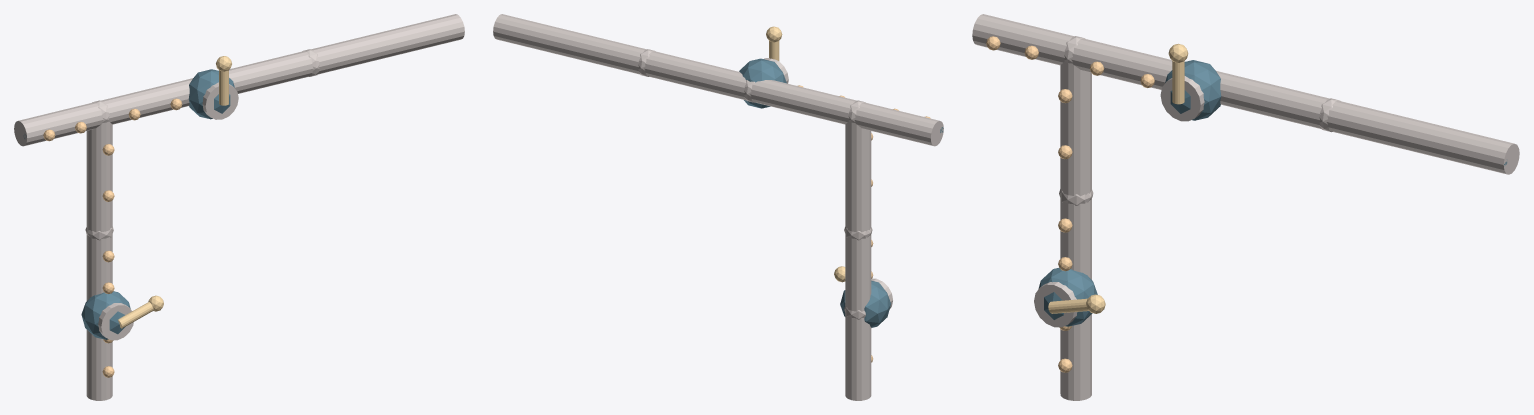
File: plant-01-1.glb
3 views of the same model, side by side, from view 1: azimuth 30°, elevation 25°; view 2: azimuth 150°, elevation 25°; view 3: azimuth 330°, elevation 25° (orthographic). The views are drawn at different scales.
Visible parts, largest first — view 1: pipe, dark, handle, flow; view 2: pipe, dark, handle; view 3: pipe, dark, handle, flow.
Part boxes in pixels (x1=…): pipe: x1=14, y1=14, x2=464, y2=400; dark: x1=23, y1=69, x2=234, y2=339; handle: x1=118, y1=56, x2=231, y2=328; flow: x1=43, y1=98, x2=182, y2=377; pipe: x1=493, y1=14, x2=943, y2=400; dark: x1=739, y1=58, x2=943, y2=327; handle: x1=766, y1=26, x2=845, y2=282; pipe: x1=972, y1=14, x2=1519, y2=400; dark: x1=1038, y1=60, x2=1507, y2=326; handle: x1=1048, y1=43, x2=1188, y2=313; flow: x1=986, y1=36, x2=1154, y2=372.
Size of the model in its own units: 2.77 by 1.99 by 0.343.
